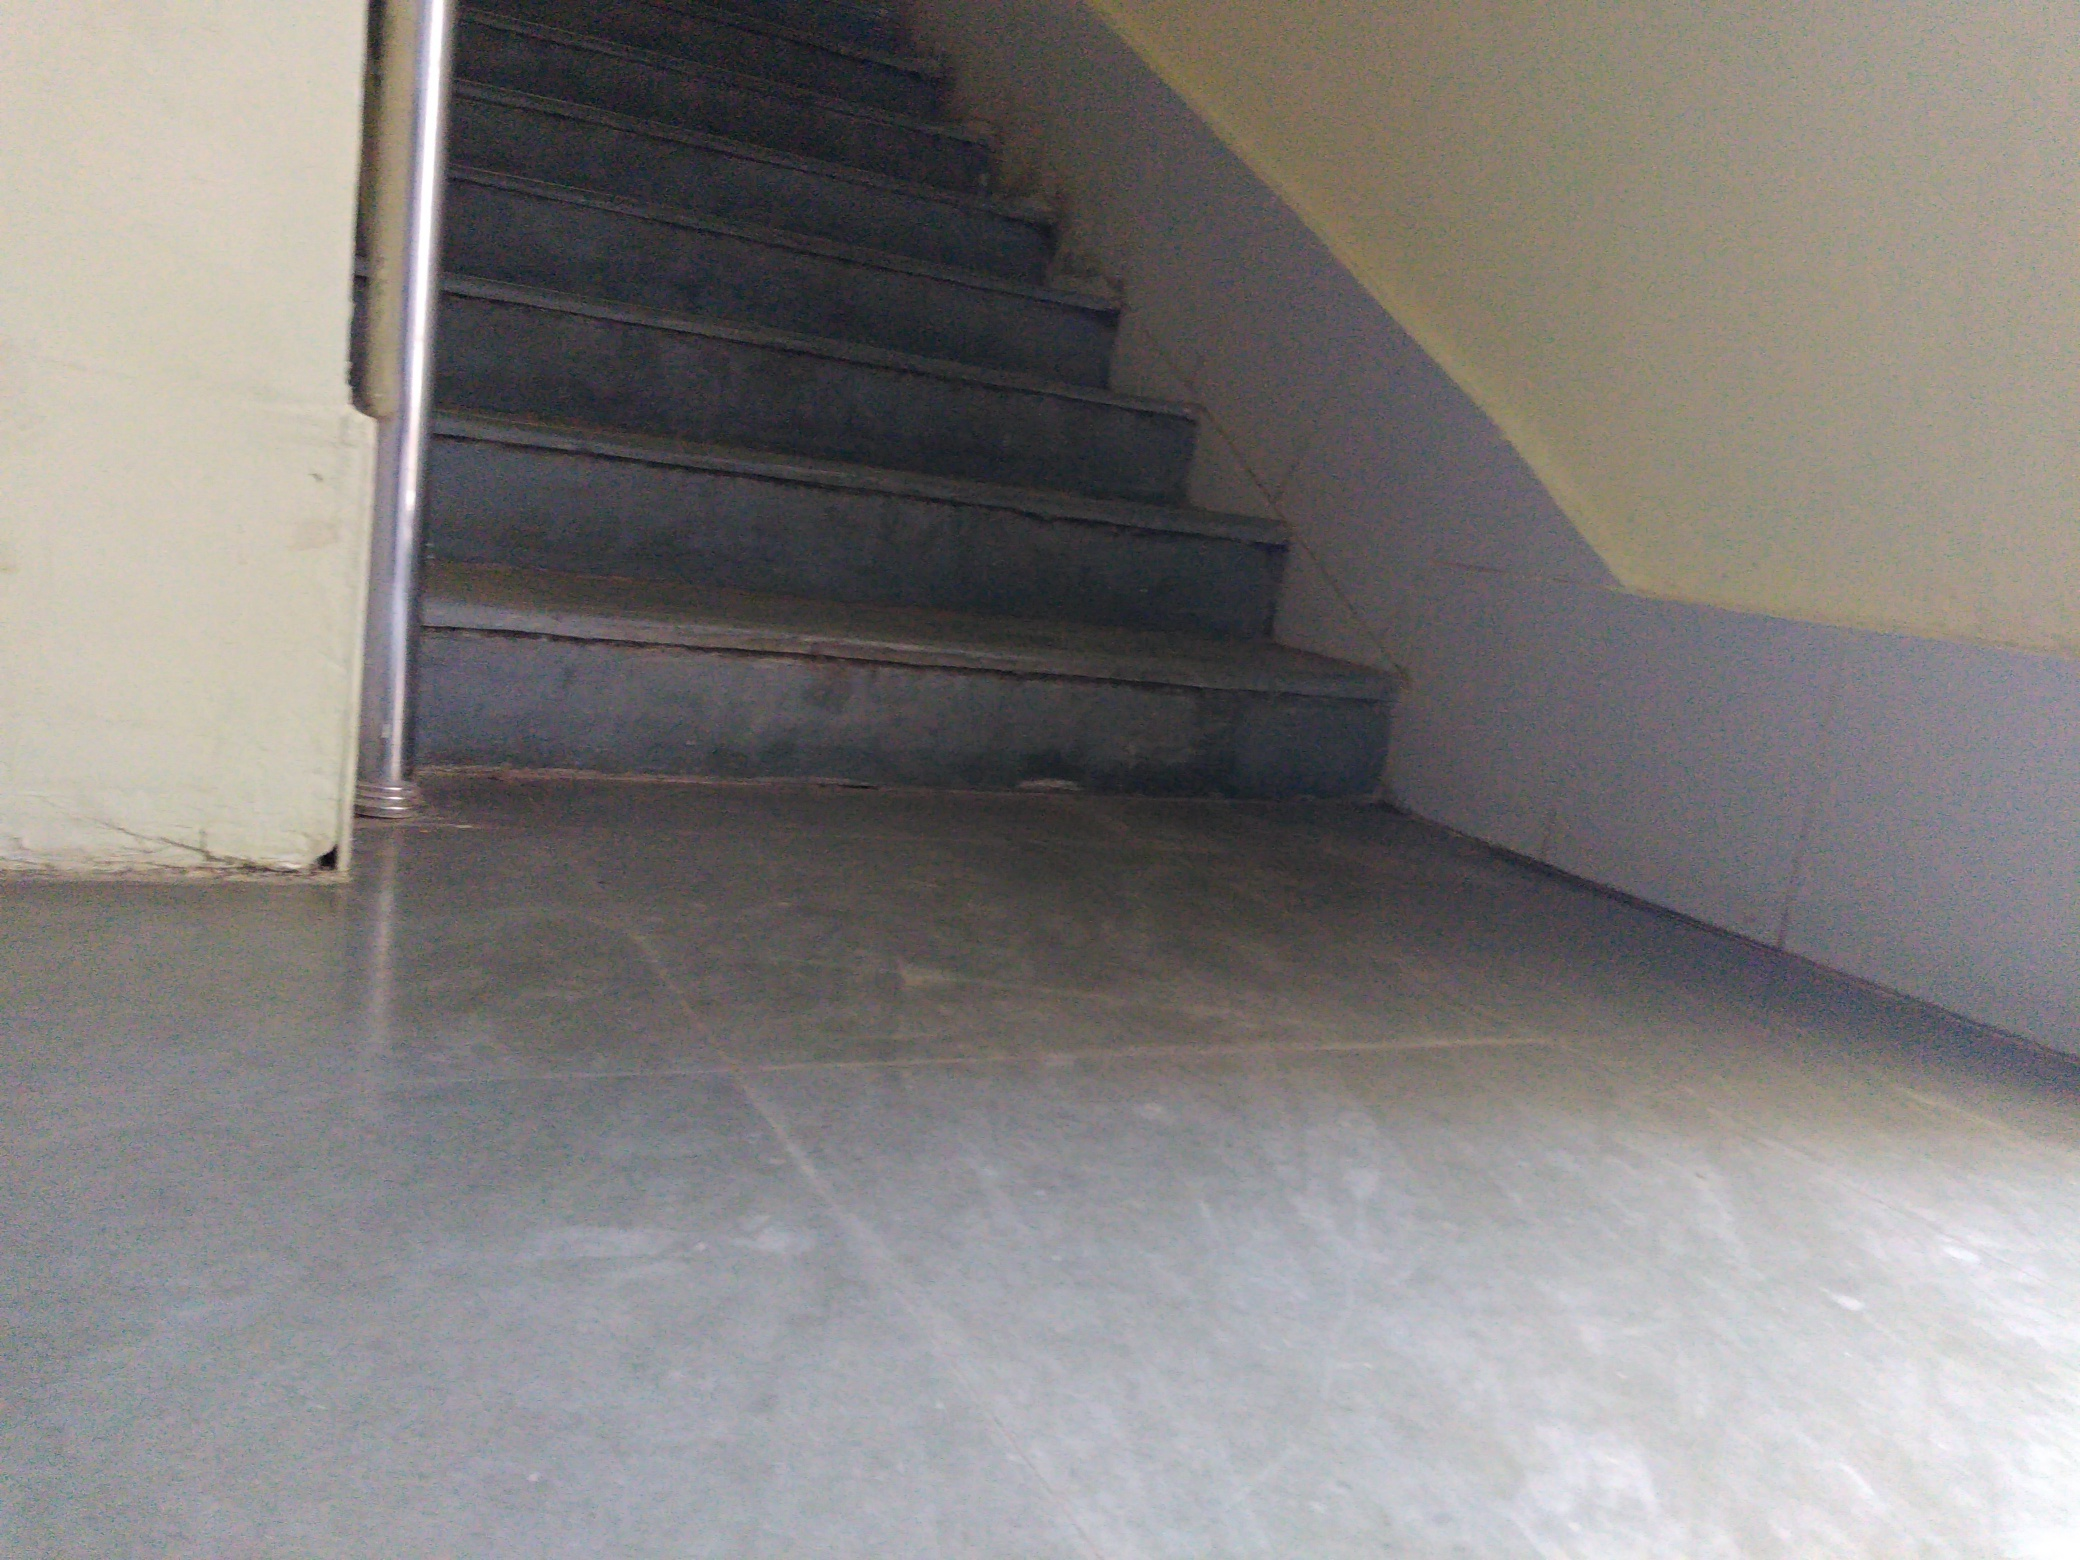stairs_up: (411, 31, 1368, 811)
